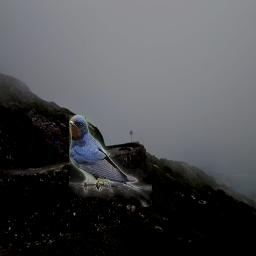Swallow: (69, 115, 152, 207)
